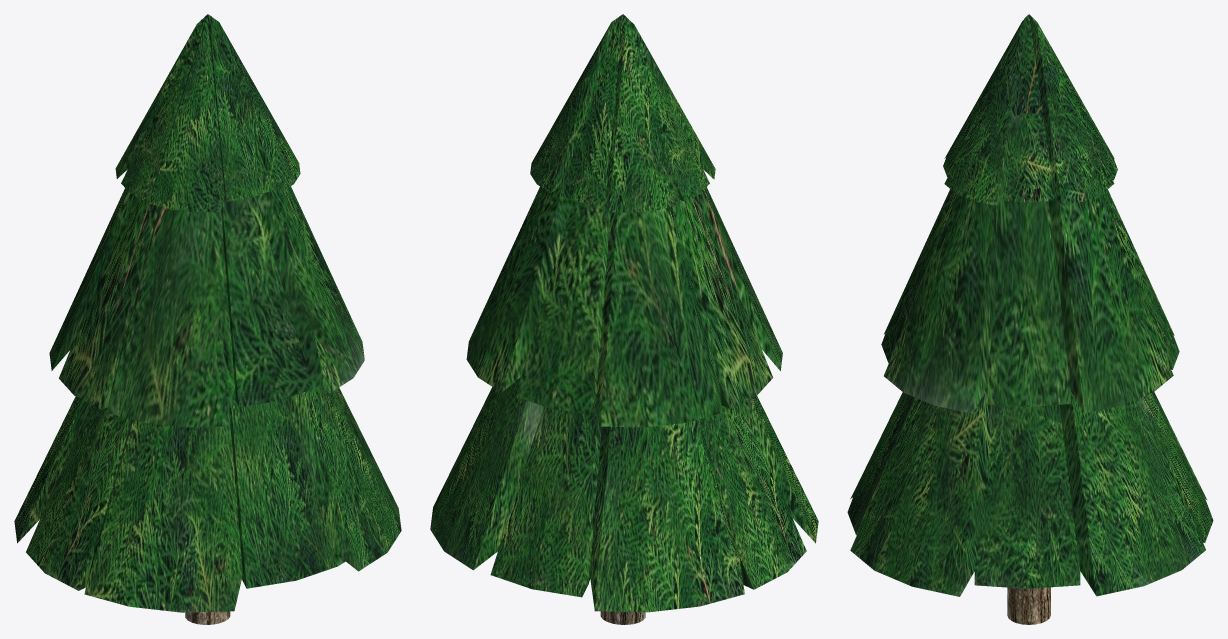
The model's file is NEwTree.fbx.
3 views of the same model, side by side, from view 1: azimuth 30°, elevation 25°; view 2: azimuth 150°, elevation 25°; view 3: azimuth 270°, elevation 25° (orthographic).
Visible parts, largest first — view 1: Full_Tree; view 2: Full_Tree; view 3: Full_Tree.
Part boxes in pixels (bbox=[...]): Full_Tree: bbox=[14, 14, 401, 624]; Full_Tree: bbox=[430, 14, 818, 624]; Full_Tree: bbox=[847, 14, 1213, 624].
Bounding box in the file's own units: 4.52 × 8.12 × 4.48.
1 material, 1 textured.
